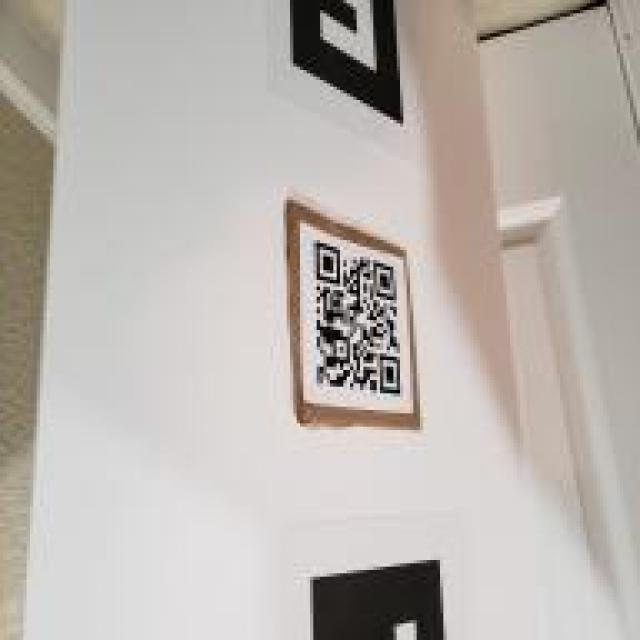QR_CODE: (304, 230, 404, 403)
